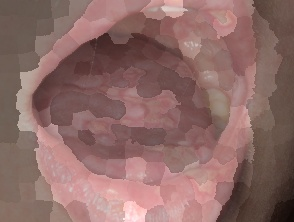SJS-TEN: (9, 0, 281, 222)
